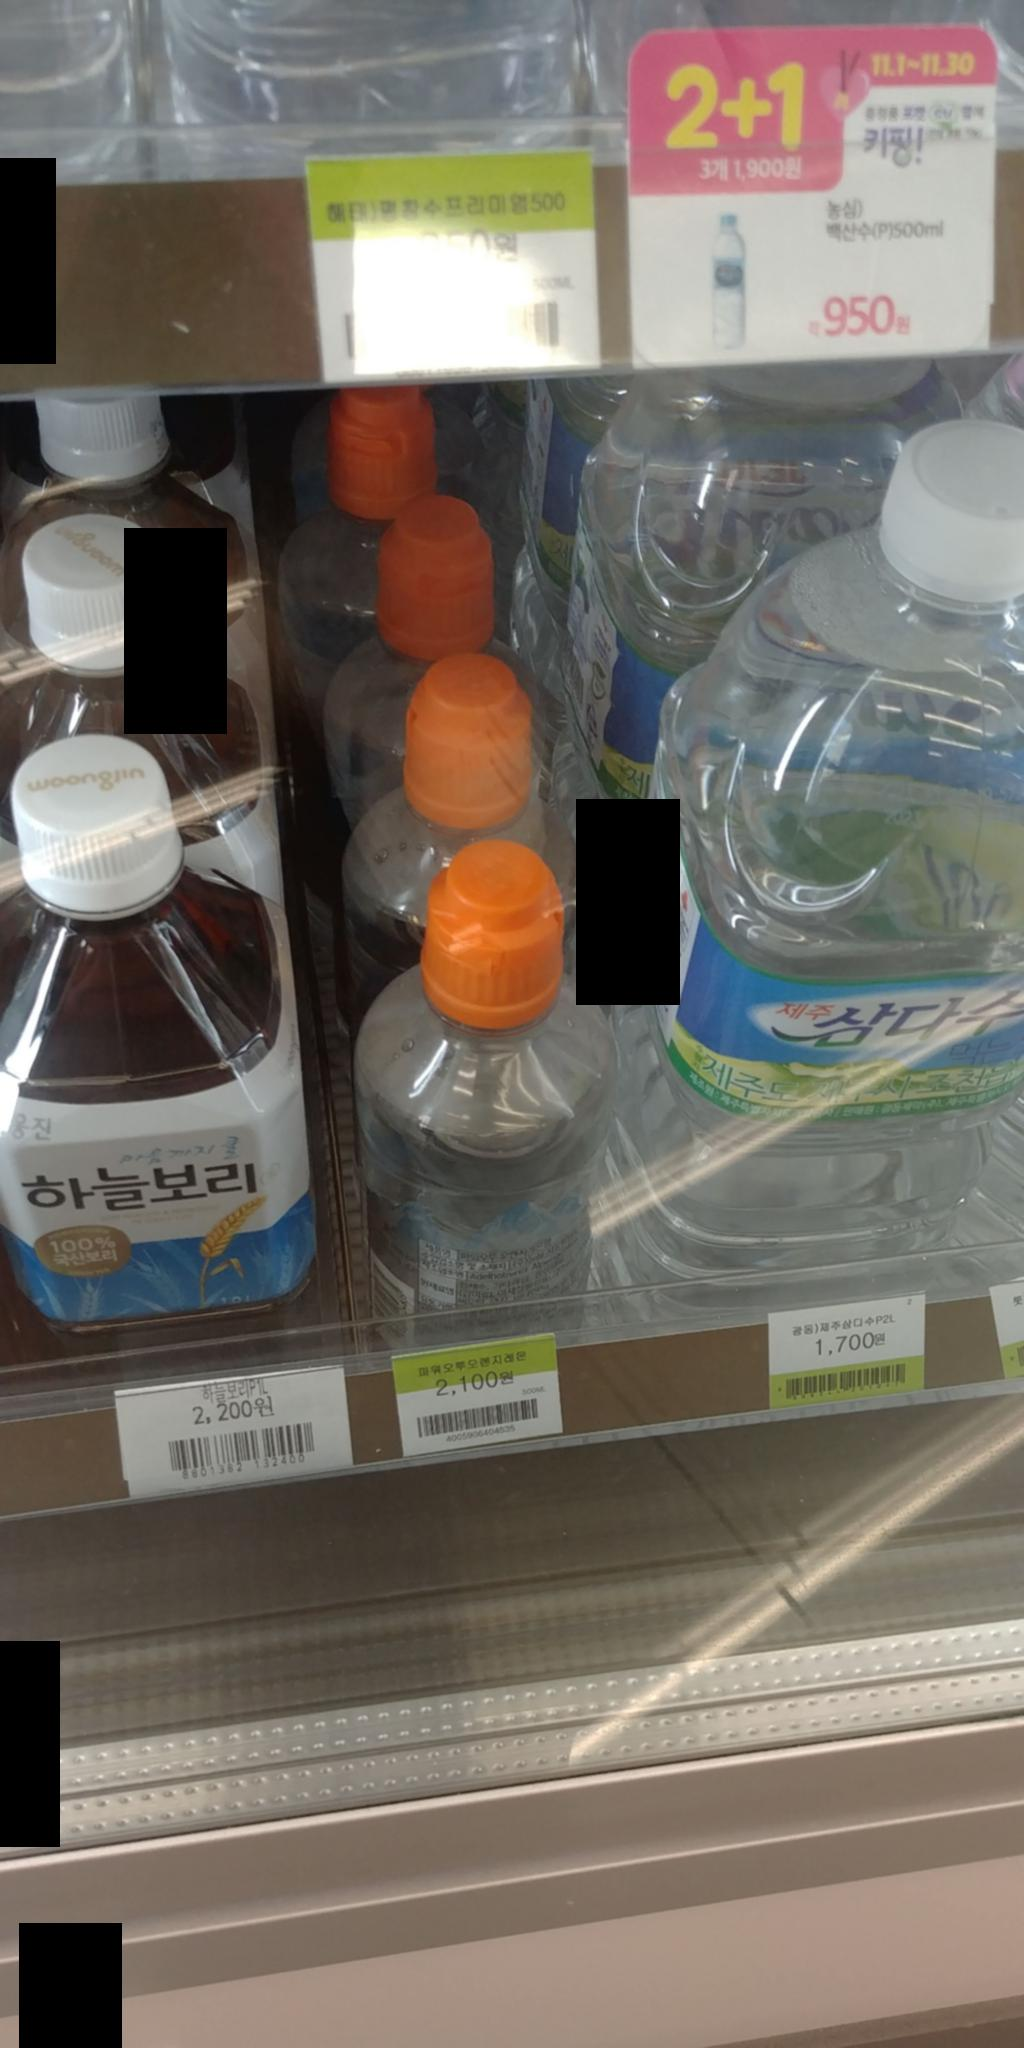powerO2_orange: (338, 846, 615, 1344)
